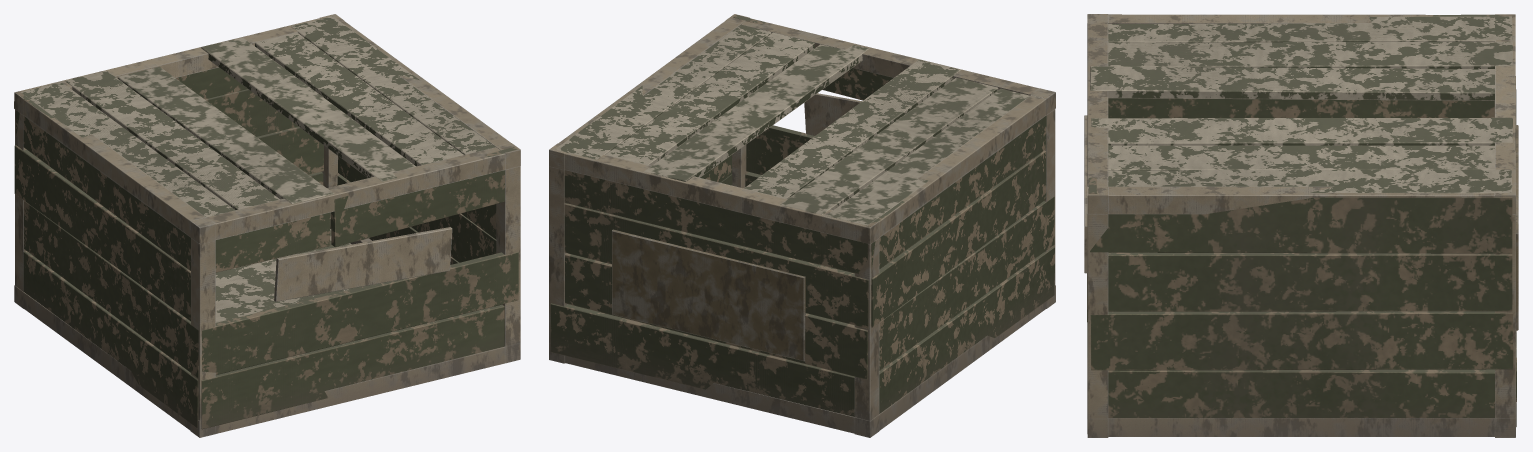
The model's file is crate-09-worn.glb.
3 renders of one model, left to right at view 1: azimuth 30°, elevation 25°; view 2: azimuth 150°, elevation 25°; view 3: azimuth 270°, elevation 25°, orthographic. The views are drawn at different scales.
Visible parts, largest first — view 1: crate_09_WornCrateSlat09, crate_09_WornCrateLid09, crate_09_WornCrateFrame09; view 2: crate_09_WornCrateSlat09, crate_09_WornCrateFrame09, crate_09_WornCrateLid09; view 3: crate_09_WornCrateSlat09, crate_09_WornCrateLid09, crate_09_WornCrateFrame09.
Boxes of the visible parts, bbox=[...] form: crate_09_WornCrateSlat09: bbox=[14, 67, 518, 429]; crate_09_WornCrateLid09: bbox=[20, 16, 495, 322]; crate_09_WornCrateFrame09: bbox=[14, 14, 520, 437]; crate_09_WornCrateSlat09: bbox=[550, 14, 1054, 416]; crate_09_WornCrateFrame09: bbox=[549, 14, 1055, 437]; crate_09_WornCrateLid09: bbox=[555, 24, 1029, 225]; crate_09_WornCrateSlat09: bbox=[1087, 14, 1516, 426]; crate_09_WornCrateLid09: bbox=[1090, 16, 1512, 193]; crate_09_WornCrateFrame09: bbox=[1084, 14, 1518, 437].
Bounding box in the file's own units: 1.45 × 0.9052 × 1.46.
Materials: 3 (3 with a texture image).
